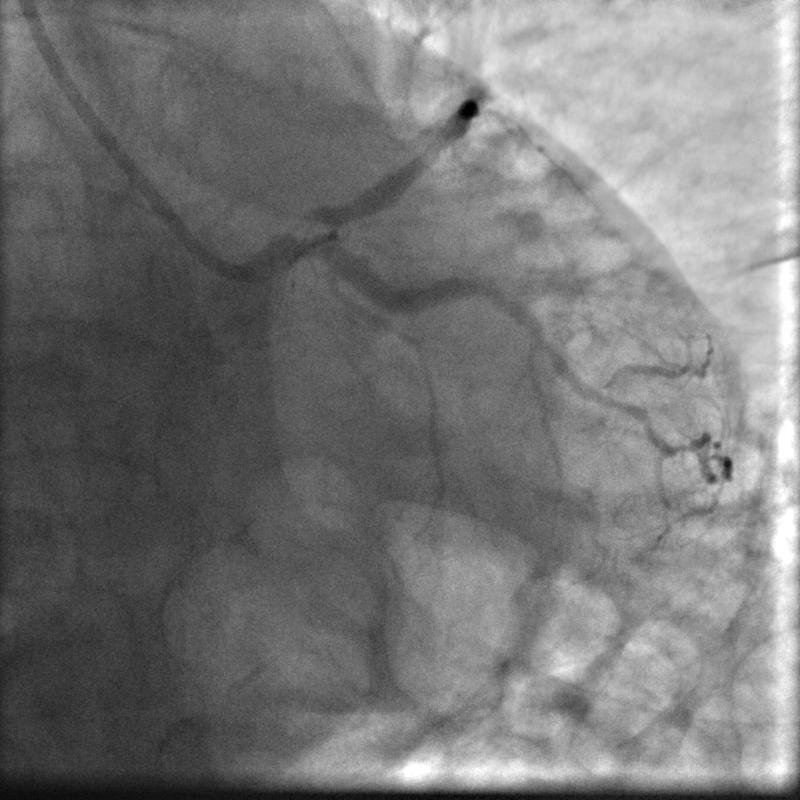Stenosis: (278, 207, 349, 258)
